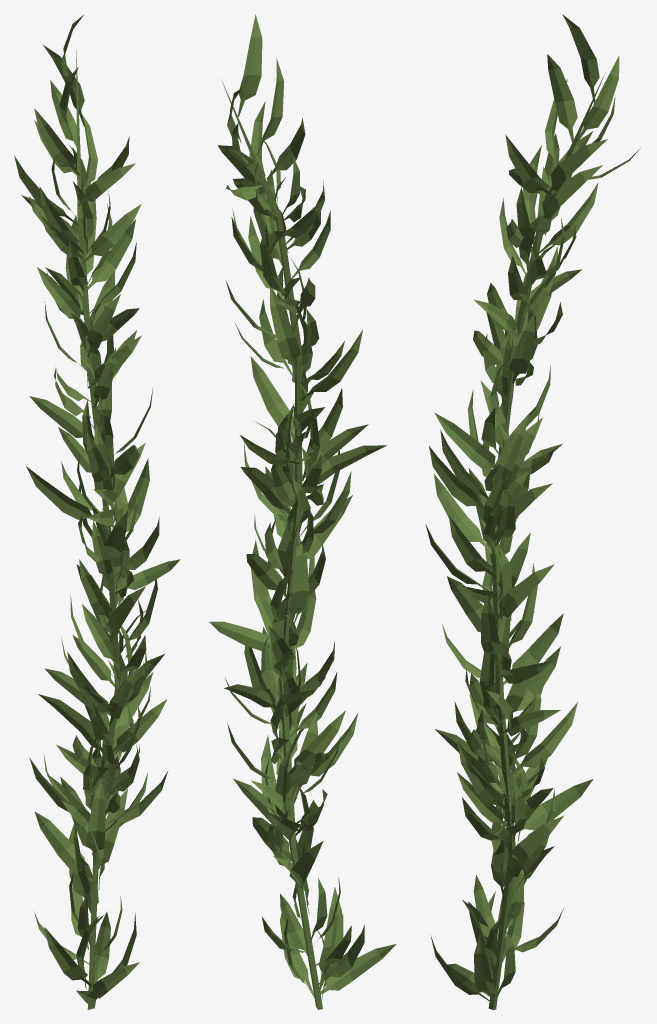
The model's file is Kelp02.fbx.
3 views of the same model, side by side, from view 1: azimuth 30°, elevation 25°; view 2: azimuth 150°, elevation 25°; view 3: azimuth 270°, elevation 25° (orthographic). The views are drawn at different scales.
Visible parts, largest first — view 1: Kelp02; view 2: Kelp02; view 3: Kelp02.
Boxes of the visible parts, box(x1,y1,x2,y2) form: Kelp02: box(14, 15, 180, 1009); Kelp02: box(209, 14, 396, 1009); Kelp02: box(425, 14, 640, 1009).
Size of the model in its own units: 3.46 by 26.28 by 5.14.
